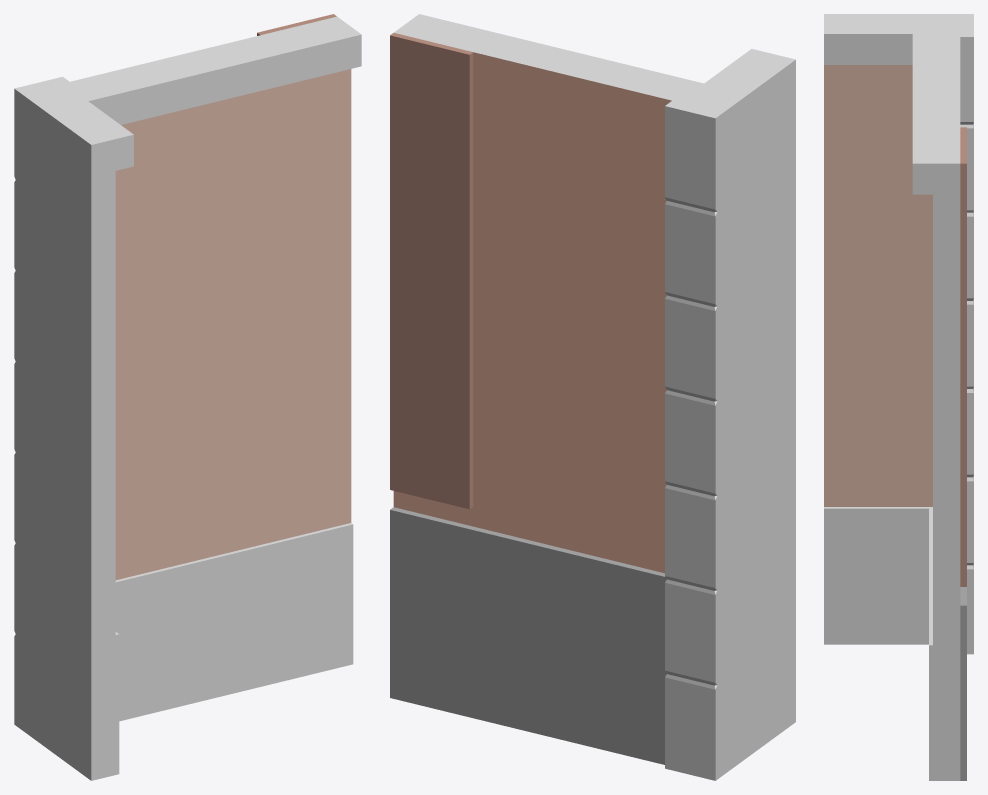
File: EntranceWall_Bottom_Corner.fbx
The picture shows the model from 3 angles, left to right: view 1: azimuth 30°, elevation 25°; view 2: azimuth 150°, elevation 25°; view 3: azimuth 270°, elevation 25°; orthographic projection. The views are drawn at different scales.
Visible parts, largest first — view 1: EntranceWall_Bottom_Corner; view 2: EntranceWall_Bottom_Corner; view 3: EntranceWall_Bottom_Corner.
Boxes of the visible parts, bbox=[...] form: EntranceWall_Bottom_Corner: bbox=[14, 14, 361, 780]; EntranceWall_Bottom_Corner: bbox=[390, 14, 795, 780]; EntranceWall_Bottom_Corner: bbox=[824, 14, 973, 780].
Bounding box in the file's own units: 2.6 × 5 × 1.1.
